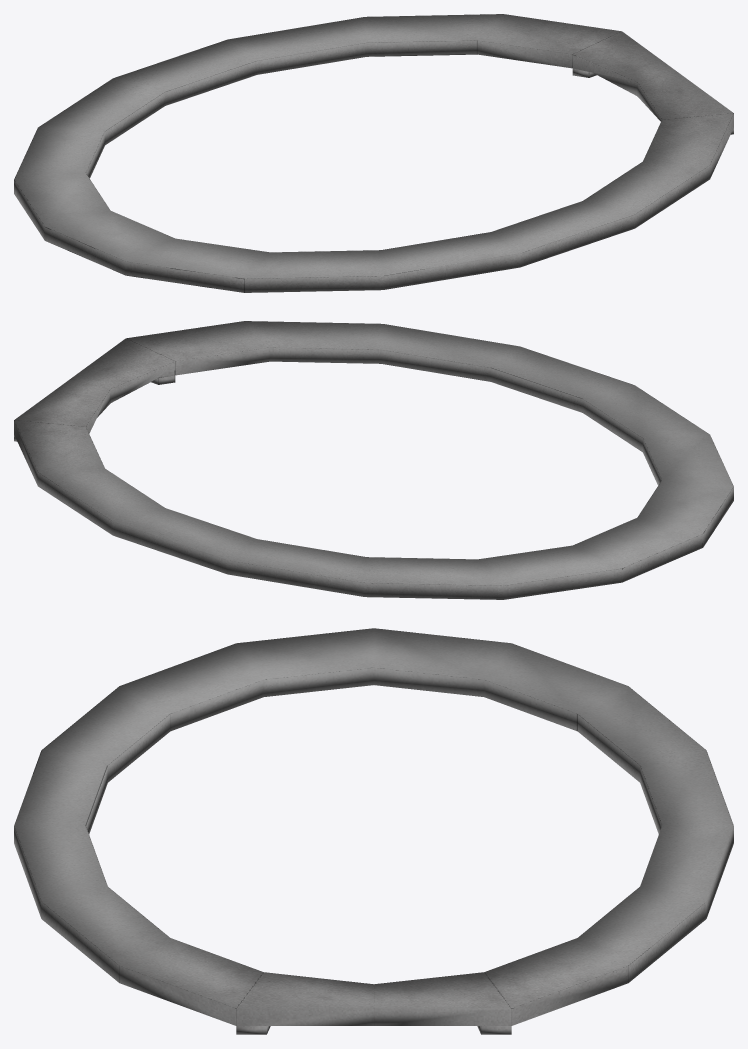
Rendered from Toilet_Seat.glb.
The picture shows the model from 3 angles, top to bottom: view 1: azimuth 30°, elevation 25°; view 2: azimuth 150°, elevation 25°; view 3: azimuth 270°, elevation 25°; orthographic projection. The views are drawn at different scales.
Parts seen in each view (by area): view 1: Seat; view 2: Seat; view 3: Seat.
Boxes of the visible parts, box(x1,y1,x2,y2) form: Seat: box(14, 14, 733, 292); Seat: box(14, 321, 733, 599); Seat: box(14, 628, 733, 1034).
Size of the model in its own units: 0.9409 by 0.03 by 0.7524.
1 material, 1 textured.
